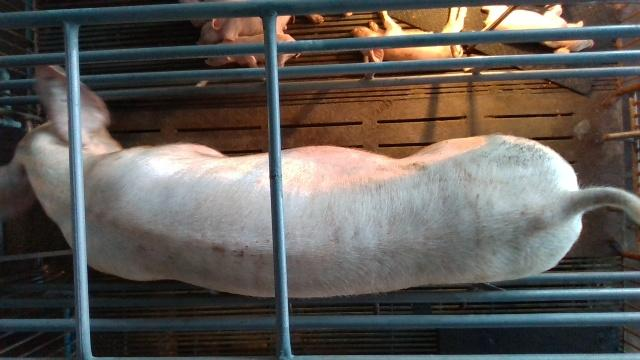piglet: (352, 8, 466, 61), (483, 3, 593, 56), (204, 32, 301, 69), (195, 14, 293, 44)
sow-stand: (0, 65, 640, 299)
